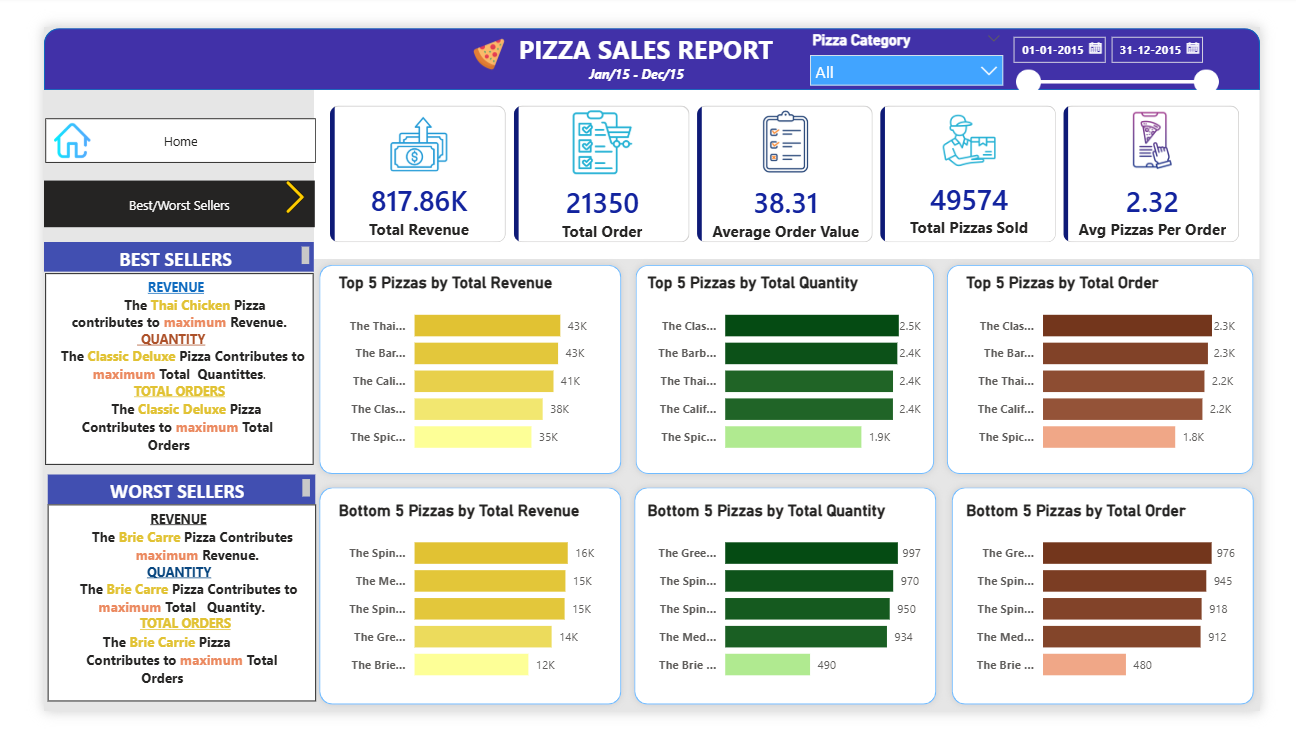

What the dashboard file says about the page in this screenshot:
{"tool":"powerbi","page":{"name":"Best/Worst Sellers","canvas":[1280,720],"ordinal":1},"visuals":[{"type":"cardVisual","fields":{"Data":["pizza_sales.Total Revenue","pizza_sales.Total Order","pizza_sales.Average Order Value","pizza_sales.Total Pizzas Sold","pizza_sales.Avg Pizzas Per Order"]},"box":[284.7,65.1,995.3,178.6],"z":0},{"type":"shape","box":[0,1.7,1280,65],"z":1000},{"type":"textbox","box":[495,0,313.3,45],"z":2000},{"type":"textbox","box":[568.3,35,123.3,30],"z":3000},{"type":"image","box":[413.3,11.7,110,33.3],"z":4000},{"type":"shape","box":[283.5,243.7,331.8,234],"z":5000},{"type":"textbox","box":[0,226.4,284,31.6],"z":6000},{"type":"textbox","box":[1.4,259.3,282.7,201.7],"z":7000},{"type":"slicer","fields":{"Values":["pizza_sales.pizza_category"]},"box":[796.7,0,223.3,65],"z":8000},{"type":"slicer","fields":{"Values":["pizza_sales.order_date"]},"box":[1008.3,0,236.7,81.7],"z":9000},{"type":"shape","box":[615.3,243.7,328.2,234],"z":10000},{"type":"shape","box":[943.4,243.7,336.6,234],"z":11000},{"type":"barChart","title":"Top 5 Pizzas by Total Revenue ","fields":{"Category":["pizza_sales.pizza_name"],"Y":["pizza_sales.Total Revenue"]},"box":[305.2,259.4,289.5,201.5],"z":12000},{"type":"barChart","title":"Top 5 Pizzas by Total Order","fields":{"Category":["pizza_sales.pizza_name"],"Y":["pizza_sales.Total Order"]},"box":[965.2,259.4,293.2,201.5],"z":13000},{"type":"barChart","title":"Top 5 Pizzas by Total Quantity","fields":{"Category":["pizza_sales.pizza_name"],"Y":["pizza_sales.Total Pizzas Sold"]},"box":[629.8,259.4,298,201.5],"z":14000},{"type":"pageNavigator","box":[0,161.7,285.9,49.5],"z":15000},{"type":"pageNavigator","box":[1.2,96.5,285.9,47.1],"z":16000},{"type":"image","box":[244.3,161.9,39.8,34.3],"z":17000},{"type":"image","box":[10.9,94.1,38.6,49.5],"z":18000},{"type":"shape","box":[283.5,477.8,331.8,242.5],"z":19000},{"type":"shape","box":[614.1,477.8,331.8,242.5],"z":20000},{"type":"shape","box":[948.3,477.8,331.8,242.5],"z":21000},{"type":"barChart","title":"Bottom 5 Pizzas by Total Revenue ","fields":{"Category":["pizza_sales.pizza_name"],"Y":["pizza_sales.Total Revenue"]},"box":[305.2,498.3,289.5,201.5],"z":21001},{"type":"barChart","title":"Bottom 5 Pizzas by Total Quantity","fields":{"Category":["pizza_sales.pizza_name"],"Y":["pizza_sales.Total Pizzas Sold"]},"box":[629.8,498.3,298,201.5],"z":21002},{"type":"barChart","title":"Bottom 5 Pizzas by Total Order","fields":{"Category":["pizza_sales.pizza_name"],"Y":["pizza_sales.Total Order"]},"box":[965.2,498.3,293.2,201.5],"z":21003},{"type":"textbox","box":[4.1,470.7,281.3,31.6],"z":21005},{"type":"textbox","box":[4.1,502.2,282.7,207.2],"z":21006}]}

Visuals, with their boxes in screenshot pixels (x1, y1, x2, y2), scaled from the page's 1280x720 canvas onto the 1296x730 screenshot:
cardVisual - pizza_sales.Total Revenue x pizza_sales.Total Order: select_region(288, 66, 1295, 247)
shape: select_region(0, 2, 1295, 68)
textbox: select_region(501, 0, 818, 46)
textbox: select_region(575, 35, 700, 66)
image: select_region(418, 12, 530, 46)
shape: select_region(287, 247, 623, 484)
textbox: select_region(0, 230, 288, 262)
textbox: select_region(1, 263, 288, 467)
slicer - pizza_sales.pizza_category: select_region(807, 0, 1033, 66)
slicer - pizza_sales.order_date: select_region(1021, 0, 1261, 83)
shape: select_region(623, 247, 955, 484)
shape: select_region(955, 247, 1295, 484)
"Top 5 Pizzas by Total Revenue " barChart: select_region(309, 263, 602, 467)
"Top 5 Pizzas by Total Order" barChart: select_region(977, 263, 1274, 467)
"Top 5 Pizzas by Total Quantity" barChart: select_region(638, 263, 939, 467)
pageNavigator: select_region(0, 164, 289, 214)
pageNavigator: select_region(1, 98, 291, 146)
image: select_region(247, 164, 288, 199)
image: select_region(11, 95, 50, 146)
shape: select_region(287, 484, 623, 729)
shape: select_region(622, 484, 958, 729)
shape: select_region(960, 484, 1295, 729)
"Bottom 5 Pizzas by Total Revenue " barChart: select_region(309, 505, 602, 710)
"Bottom 5 Pizzas by Total Quantity" barChart: select_region(638, 505, 939, 710)
"Bottom 5 Pizzas by Total Order" barChart: select_region(977, 505, 1274, 710)
textbox: select_region(4, 477, 289, 509)
textbox: select_region(4, 509, 290, 719)
